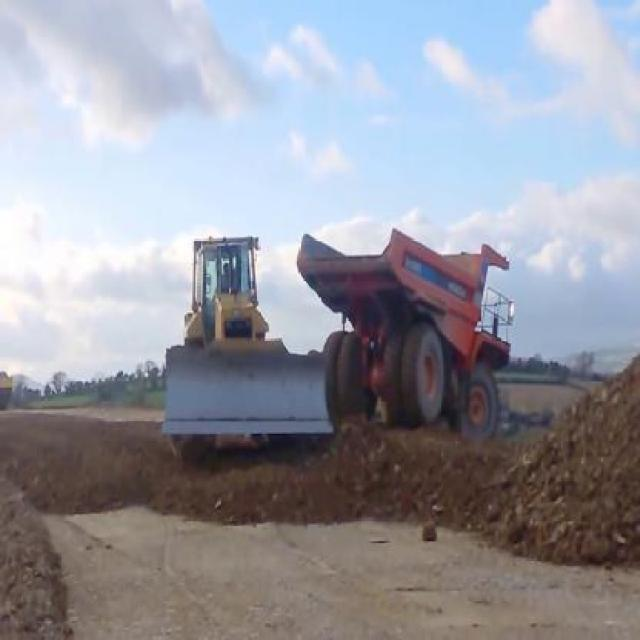dump_truck: (297, 228, 515, 443)
